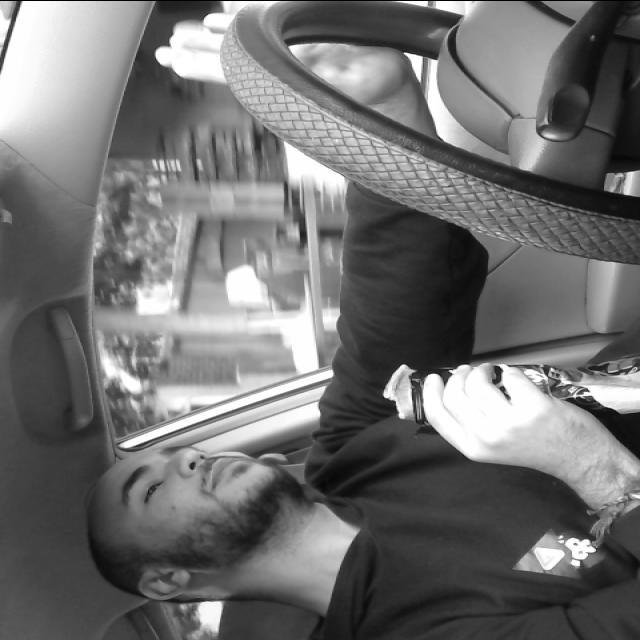eating: (370, 350, 640, 440)
